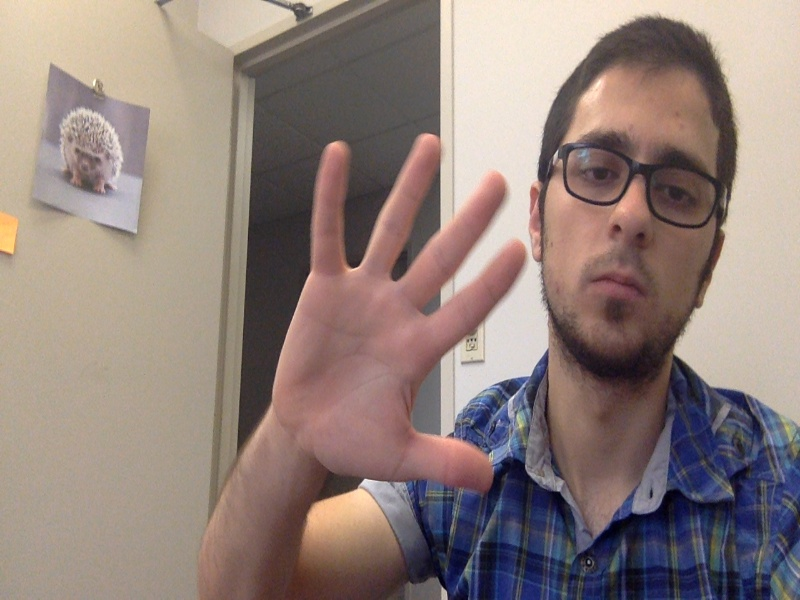5-hand: (276, 133, 527, 494)
